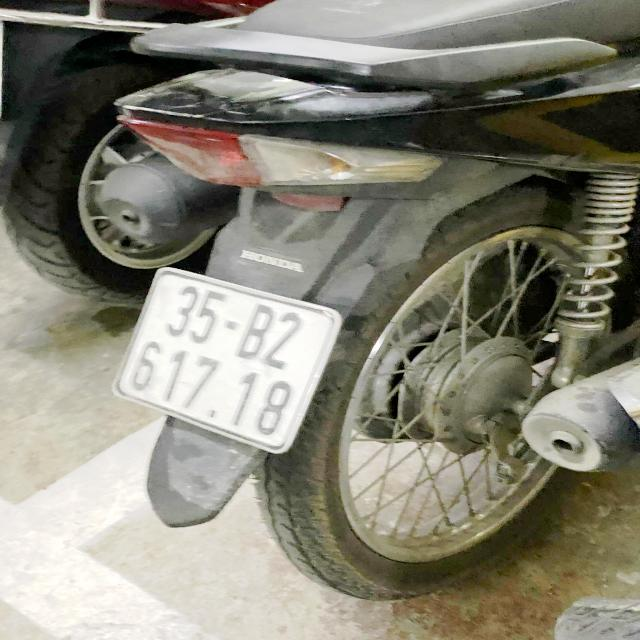license_plate: (101, 258, 362, 471)
